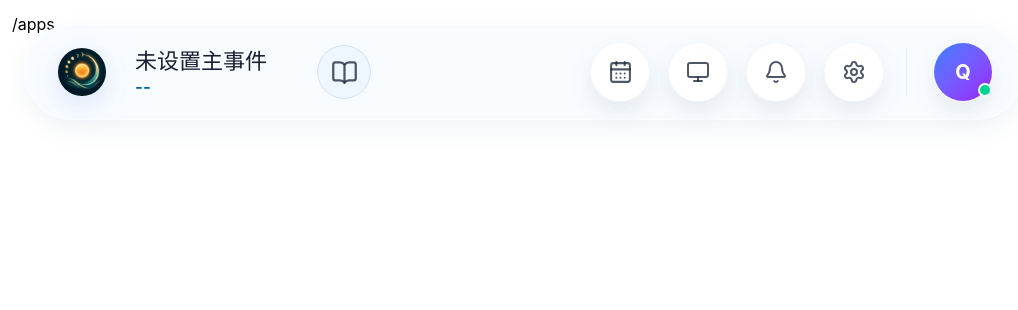
it: Navigation › shows the UI library entry for admins and navigates to it
Click the button named "打开用户菜单". click: click(963, 72)
box: top-left (933, 42), bottom-right (993, 102)
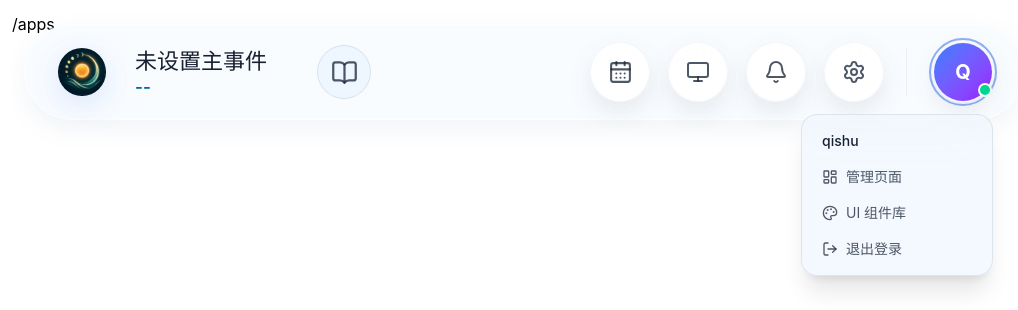
Click the button "UI 组件库". click: click(897, 213)
box: top-left (810, 195), bottom-right (984, 231)
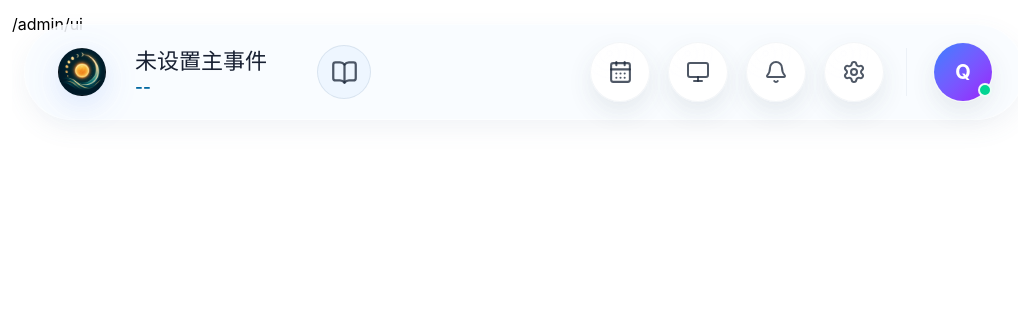
Result: the text with test id "current-path" reads "/admin/ui" at top-left (12, 14), bottom-right (83, 34)
